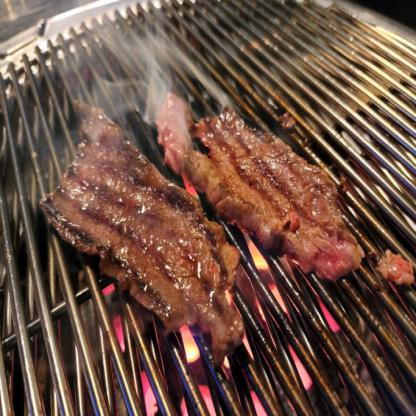Carne: (38, 89, 244, 372), (160, 92, 364, 280)
